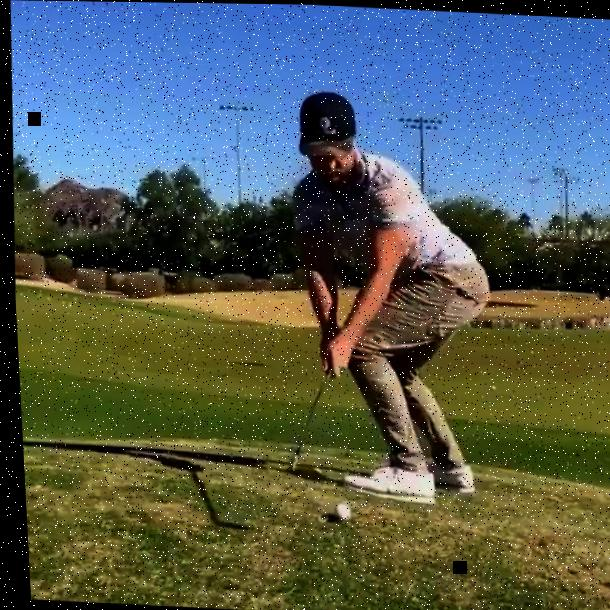ClubHead: (284, 462, 319, 476)
GolfBall: (328, 502, 346, 519)
